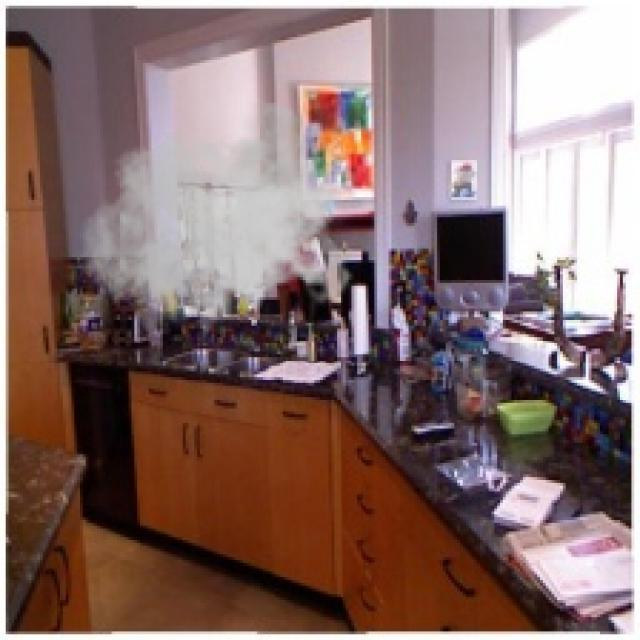smoke: (80, 103, 357, 346)
